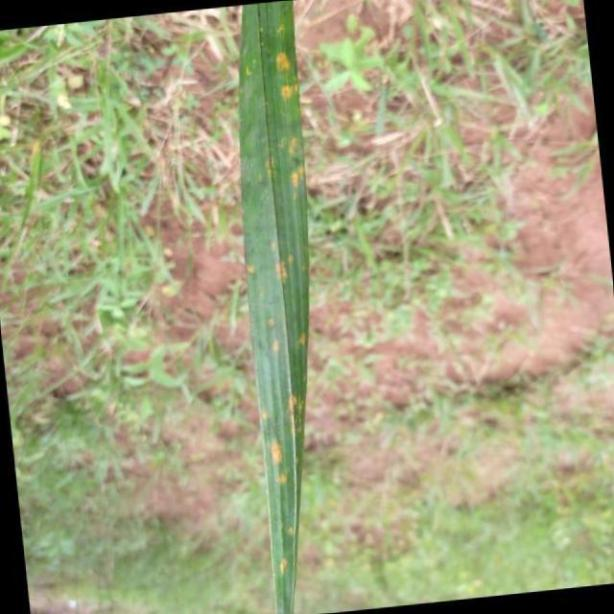Kalium: (238, 0, 312, 614)
